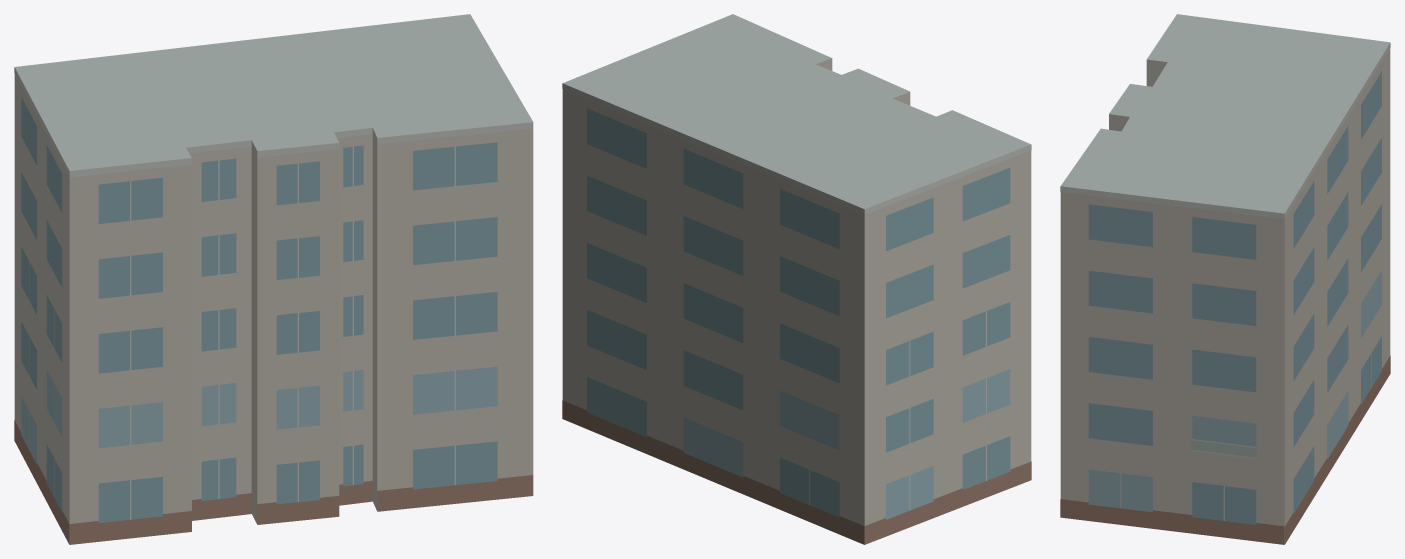
Rendered from survey-upis-33042025.glb.
3 views of the same model, side by side, from view 1: azimuth 30°, elevation 25°; view 2: azimuth 150°, elevation 25°; view 3: azimuth 270°, elevation 25° (orthographic). The views are drawn at different scales.
Visible parts, largest first — view 1: survey-upis-33042025.tmp; view 2: survey-upis-33042025.tmp; view 3: survey-upis-33042025.tmp.
Boxes of the visible parts, left/top/right/bottom form: survey-upis-33042025.tmp: left=14, top=14, right=533, bottom=544; survey-upis-33042025.tmp: left=562, top=14, right=1031, bottom=544; survey-upis-33042025.tmp: left=1060, top=14, right=1390, bottom=544.
Bounding box in the file's own units: 18.49 × 14.3 × 12.92.
